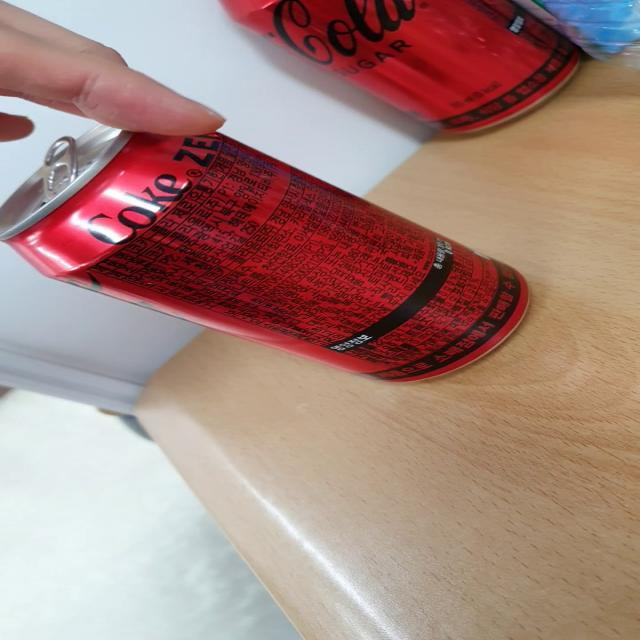coca-cola: (6, 122, 550, 390), (213, 0, 602, 140)
